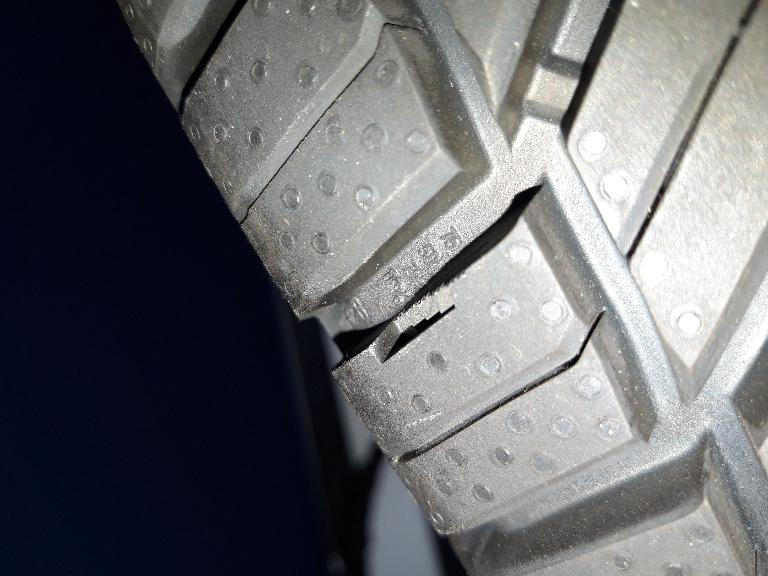temoin:100: (368, 268, 471, 367)
